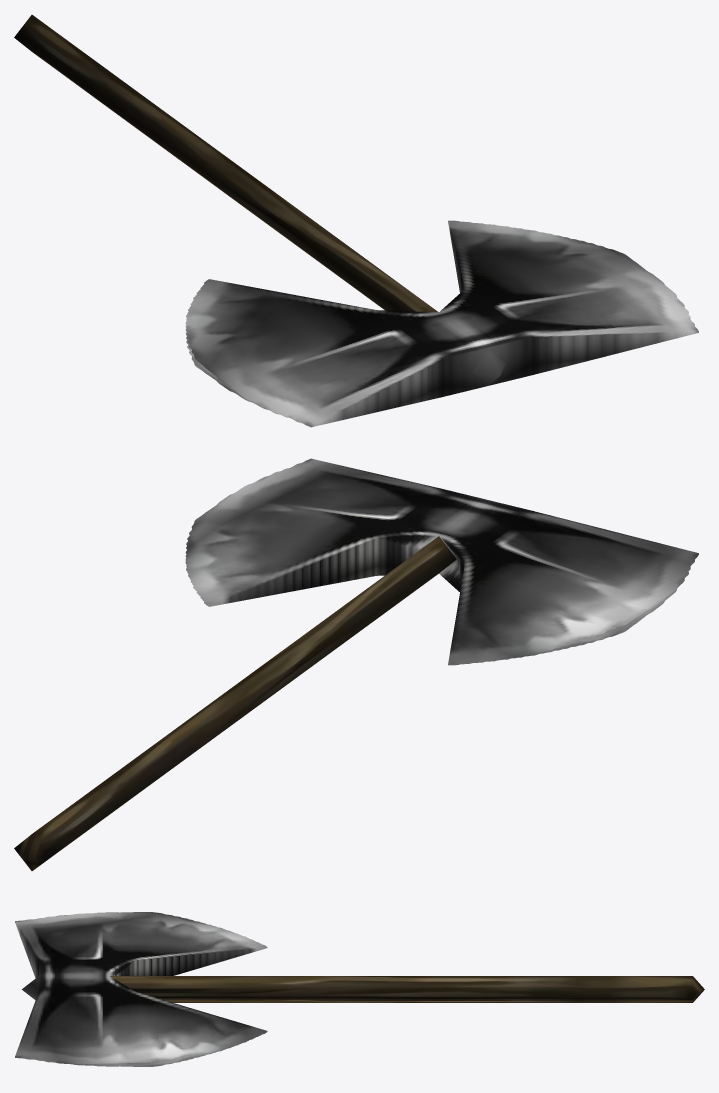
File: axe.glb
The picture shows the model from 3 angles, top to bottom: view 1: azimuth 30°, elevation 25°; view 2: azimuth 150°, elevation 25°; view 3: azimuth 270°, elevation 25°; orthographic projection. The views are drawn at different scales.
Visible parts, largest first — view 1: axe1h-208; view 2: axe1h-208; view 3: axe1h-208.
Boxes of the visible parts, box(x1,y1,x2,y2) form: axe1h-208: box(14, 15, 698, 427); axe1h-208: box(14, 458, 698, 870); axe1h-208: box(15, 912, 704, 1066).
Bounding box in the file's own units: 0.4276 × 0.0301 × 0.7.
Materials: 2 (2 with a texture image).
